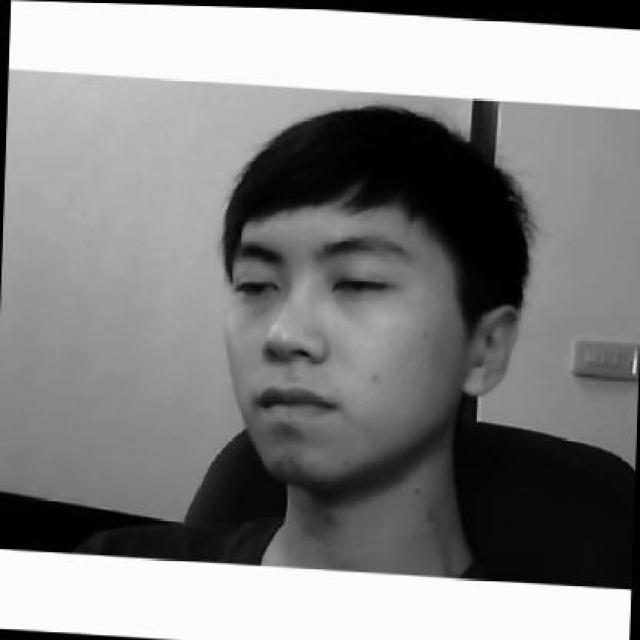inattentif: (216, 92, 529, 491)
